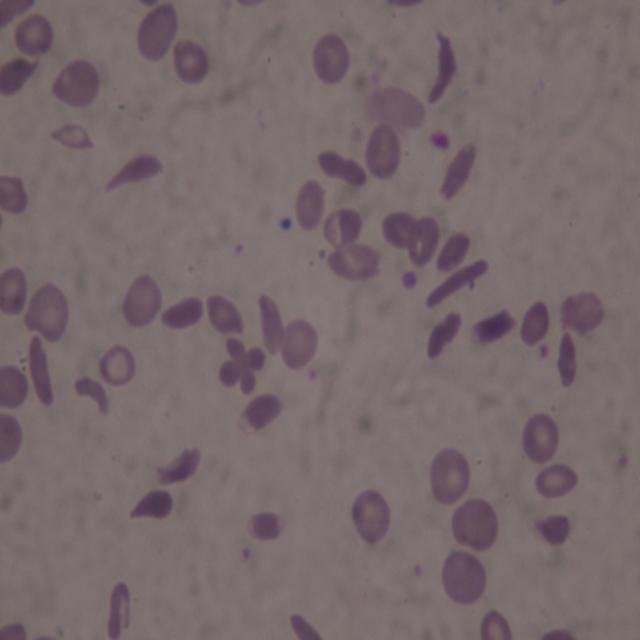Crystal: (440, 141, 477, 202), (317, 150, 369, 189), (426, 309, 463, 362), (469, 305, 518, 344), (225, 336, 255, 396), (29, 336, 54, 404), (259, 293, 284, 356), (435, 230, 470, 273), (161, 295, 204, 328), (558, 331, 578, 388), (289, 612, 324, 640)
Normal: (522, 412, 559, 463), (14, 16, 54, 56)
Others: (366, 84, 428, 128), (24, 281, 70, 340), (442, 548, 488, 605), (450, 498, 499, 551), (136, 4, 179, 62), (351, 487, 392, 546), (428, 448, 470, 505), (120, 269, 161, 327), (325, 239, 383, 280), (558, 288, 606, 336), (364, 122, 404, 178), (277, 317, 320, 369), (54, 57, 100, 105), (310, 32, 350, 82), (239, 389, 285, 431), (206, 290, 246, 337), (171, 37, 210, 84), (155, 445, 200, 485), (321, 206, 363, 248), (407, 216, 439, 267), (295, 179, 326, 230), (2, 54, 40, 95), (106, 580, 132, 637), (101, 344, 136, 386), (380, 210, 422, 245), (518, 300, 550, 345), (534, 464, 579, 496), (1, 264, 29, 315), (1, 362, 30, 409), (50, 121, 98, 149), (246, 511, 286, 542), (534, 512, 570, 546), (0, 412, 22, 464), (1, 174, 27, 215), (480, 607, 512, 640), (1, 0, 35, 26), (244, 345, 267, 371), (218, 360, 238, 388), (539, 625, 574, 640), (1, 620, 30, 638), (429, 128, 449, 154), (383, 0, 425, 10), (234, 0, 266, 11), (401, 270, 418, 288)
Sickle: (424, 257, 489, 308), (103, 152, 162, 194), (426, 28, 456, 106), (127, 485, 175, 521), (73, 374, 112, 416)
